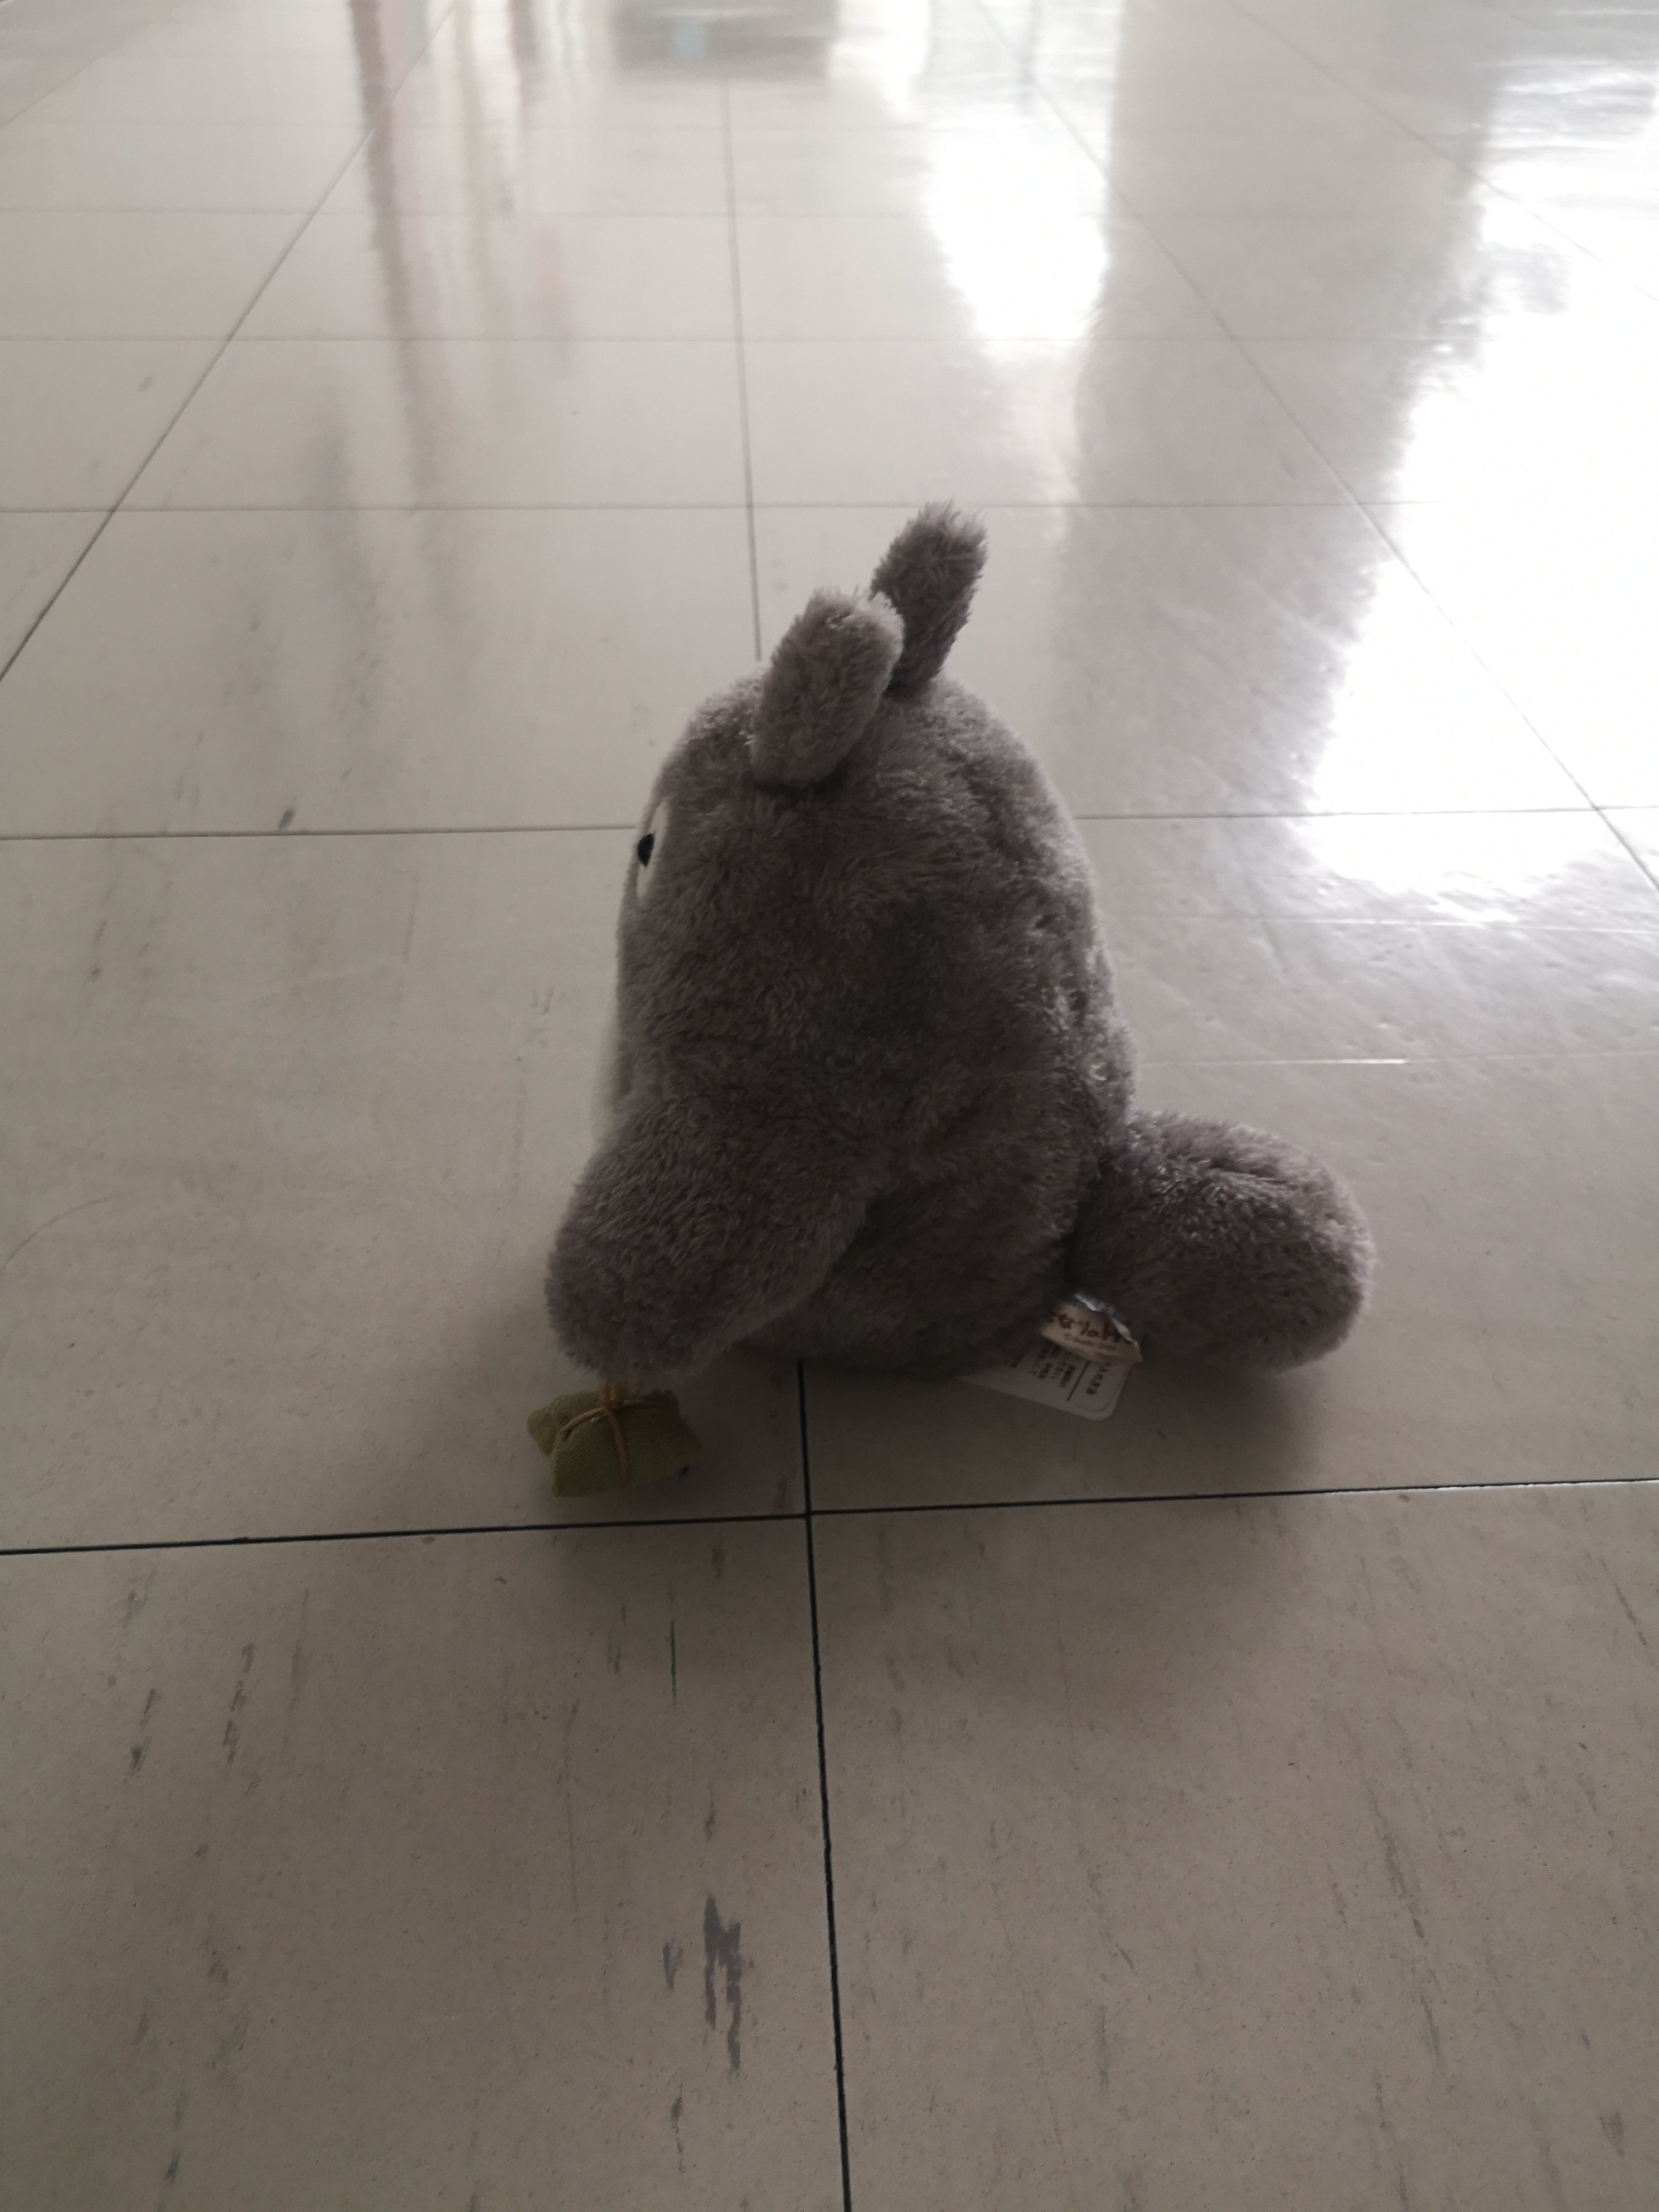totoro: (514, 486, 1401, 1557)
